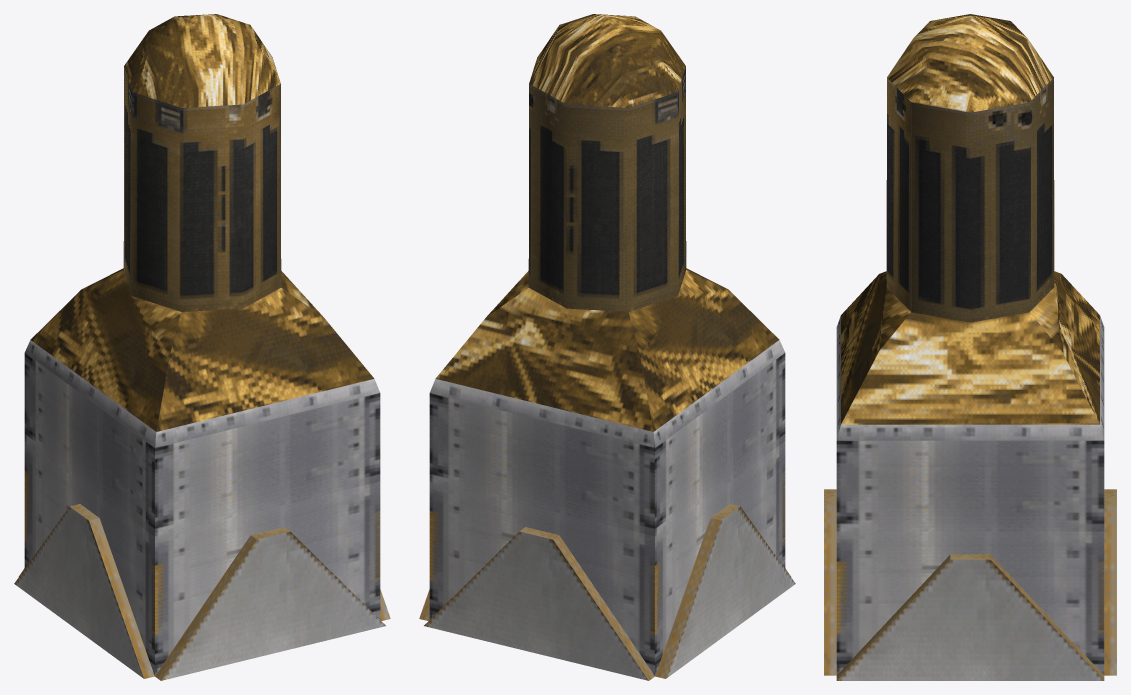
The model's file is SpaceshipPart01.fbx.
The picture shows the model from 3 angles, left to right: view 1: azimuth 30°, elevation 25°; view 2: azimuth 150°, elevation 25°; view 3: azimuth 270°, elevation 25°; orthographic projection. The views are drawn at different scales.
Parts seen in each view (by area): view 1: SpaceshipPart01; view 2: SpaceshipPart01; view 3: SpaceshipPart01.
Part boxes in pixels (x1,y1,x2,y2): SpaceshipPart01: (14,14,390,680); SpaceshipPart01: (419,14,795,680); SpaceshipPart01: (824,14,1116,680).
Bounding box in the file's own units: 109 × 248 × 109.
